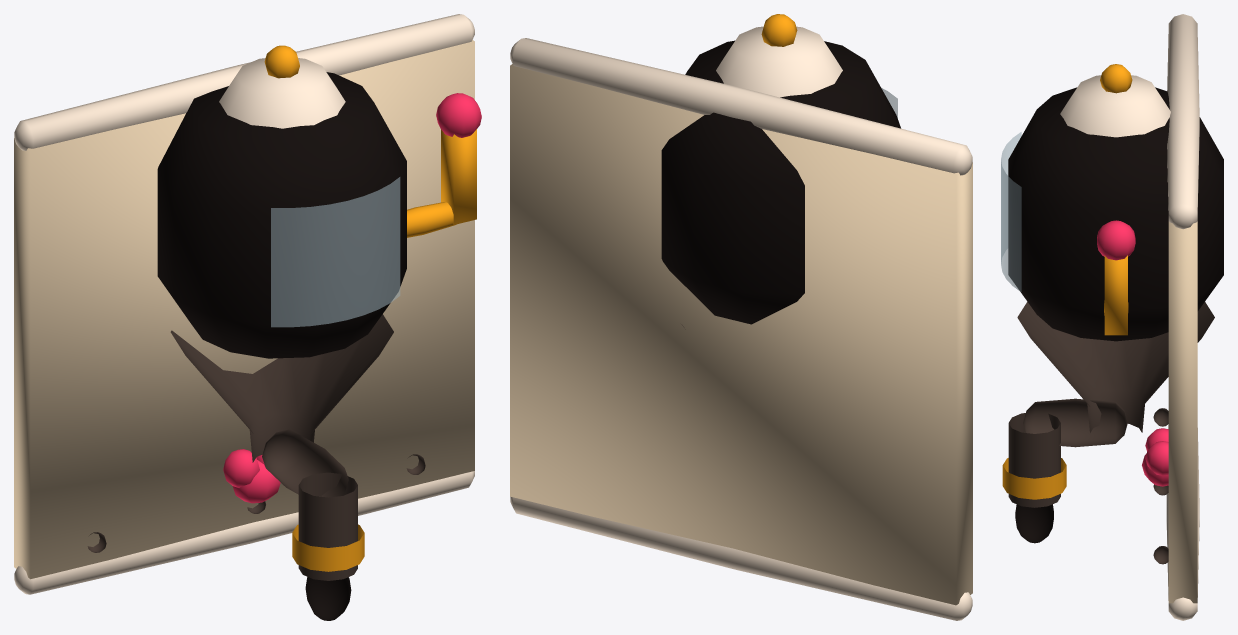
The model's file is nougatschleuse.glb.
The picture shows the model from 3 angles, left to right: view 1: azimuth 30°, elevation 25°; view 2: azimuth 150°, elevation 25°; view 3: azimuth 270°, elevation 25°; orthographic projection. The views are drawn at different scales.
Parts seen in each view (by area): view 1: Nougatschleuse, NougatFenster; view 2: Nougatschleuse; view 3: Nougatschleuse, NougatFenster.
Boxes of the visible parts, bbox=[...] form: Nougatschleuse: bbox=[14, 14, 481, 620]; NougatFenster: bbox=[271, 177, 400, 327]; Nougatschleuse: bbox=[510, 14, 972, 620]; Nougatschleuse: bbox=[1002, 14, 1223, 620]; NougatFenster: bbox=[1001, 132, 1021, 291].
Bounding box in the file's own units: 0.8 × 0.9038 × 0.3832.
2 materials, 1 textured.
